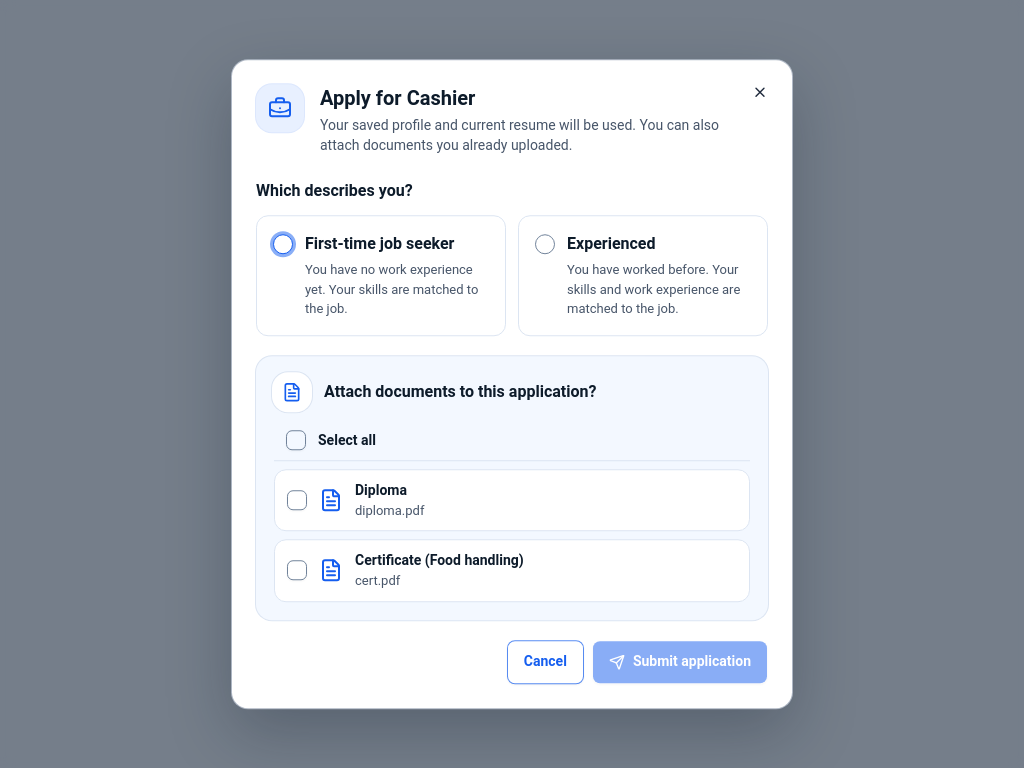
Scenario: ApplyDialog › sends the vacancy and the chosen type, then shows the applicant stage and message (no score)
Click the radio button named "Experienced" next to "Experienced" at [545, 244], box x1=535 y1=234 x2=555 y2=254
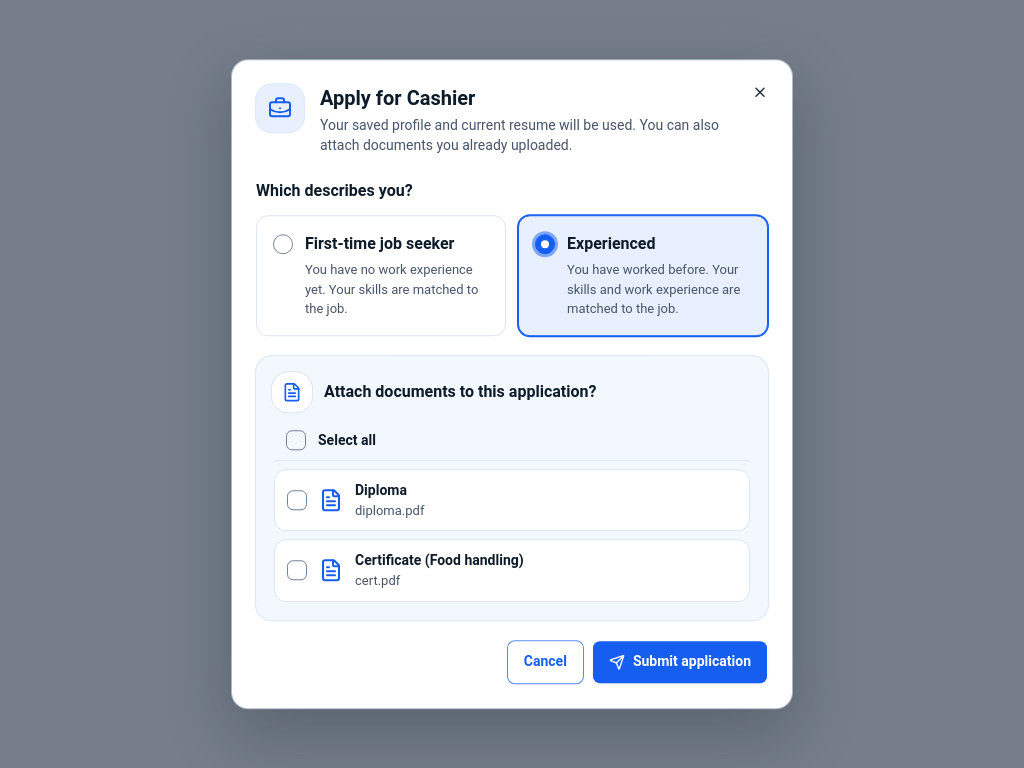
Click the button "Submit application" at [680, 662], box x1=592 y1=640 x2=768 y2=684
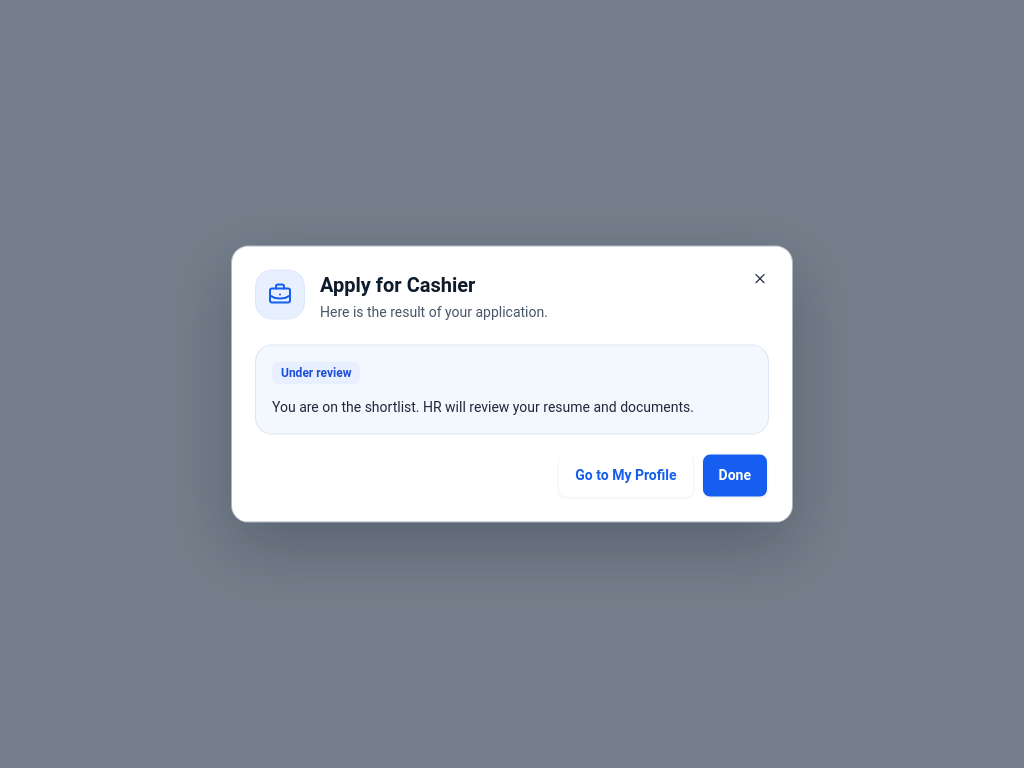
Now the text "Under review" is shown, box x1=272 y1=362 x2=360 y2=384
Now the text "You are on the shortlist. HR will review your resume and documents." is shown, box x1=272 y1=396 x2=694 y2=417
